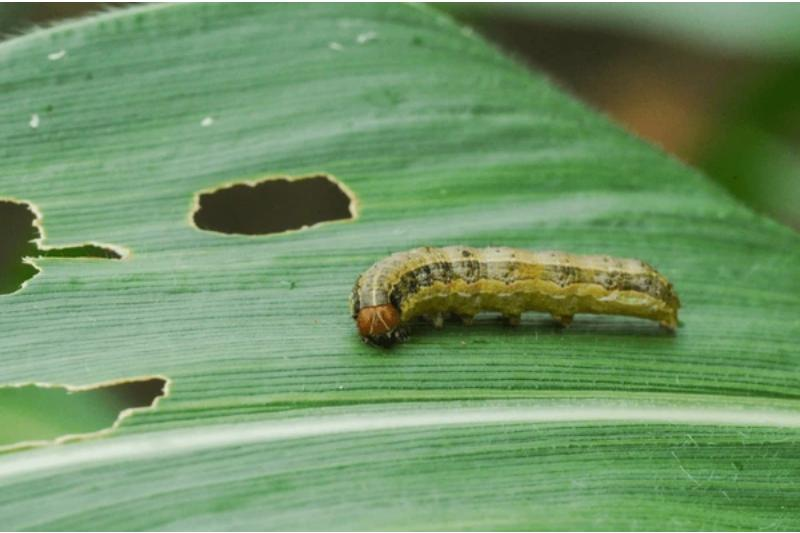fall-armyworm: (350, 246, 684, 351)
